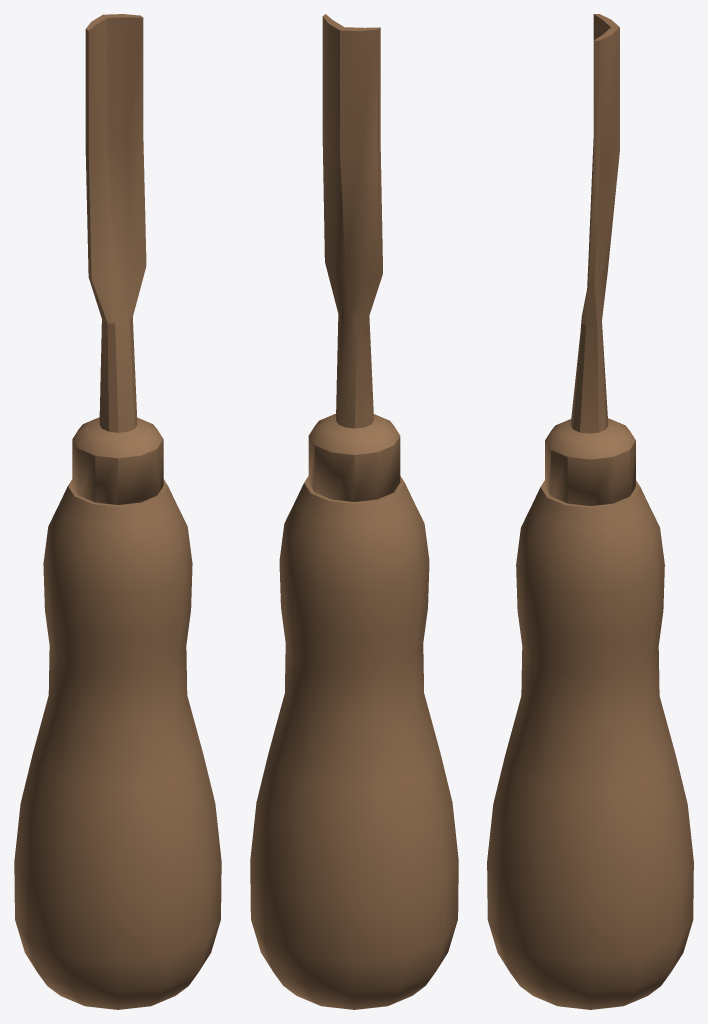
File: goiva.fbx
The picture shows the model from 3 angles, left to right: view 1: azimuth 30°, elevation 25°; view 2: azimuth 150°, elevation 25°; view 3: azimuth 270°, elevation 25°; orthographic projection.
Visible parts, largest first — view 1: Goiva.001; view 2: Goiva.001; view 3: Goiva.001.
Part boxes in pixels (box(x1,y1,x2,y2)): Goiva.001: box(14, 14, 221, 1009); Goiva.001: box(250, 14, 458, 1009); Goiva.001: box(487, 14, 693, 1009).
Bounding box in the file's own units: 6.6 × 34.11 × 6.6.
